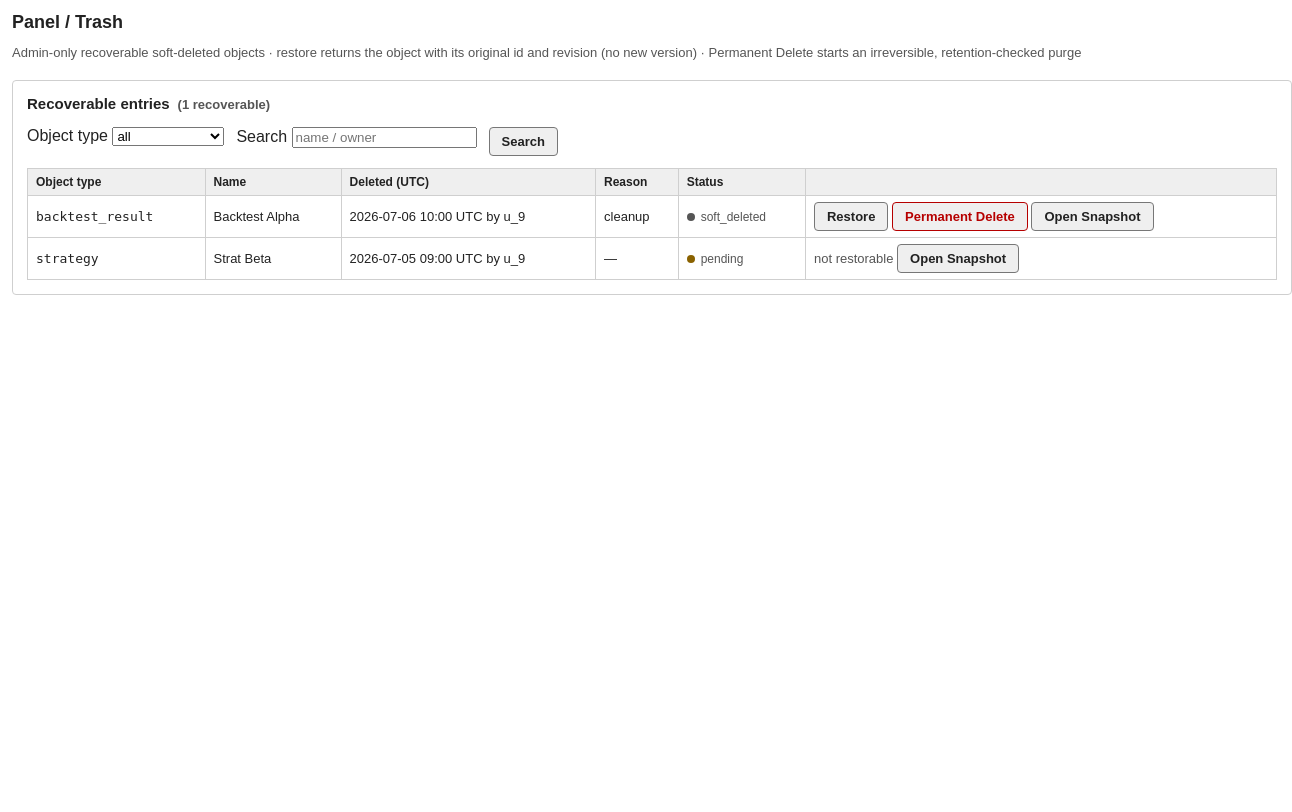
Test: Trash page › gates the purge behind an exact object name and an Admin password
The width and height of the screenshot is (1292, 812).
Check: the text "Backtest Alpha" is shown, box [205,196,341,238]
Click the button "Permanent Delete": click(960, 216) [892,202,1028,231]
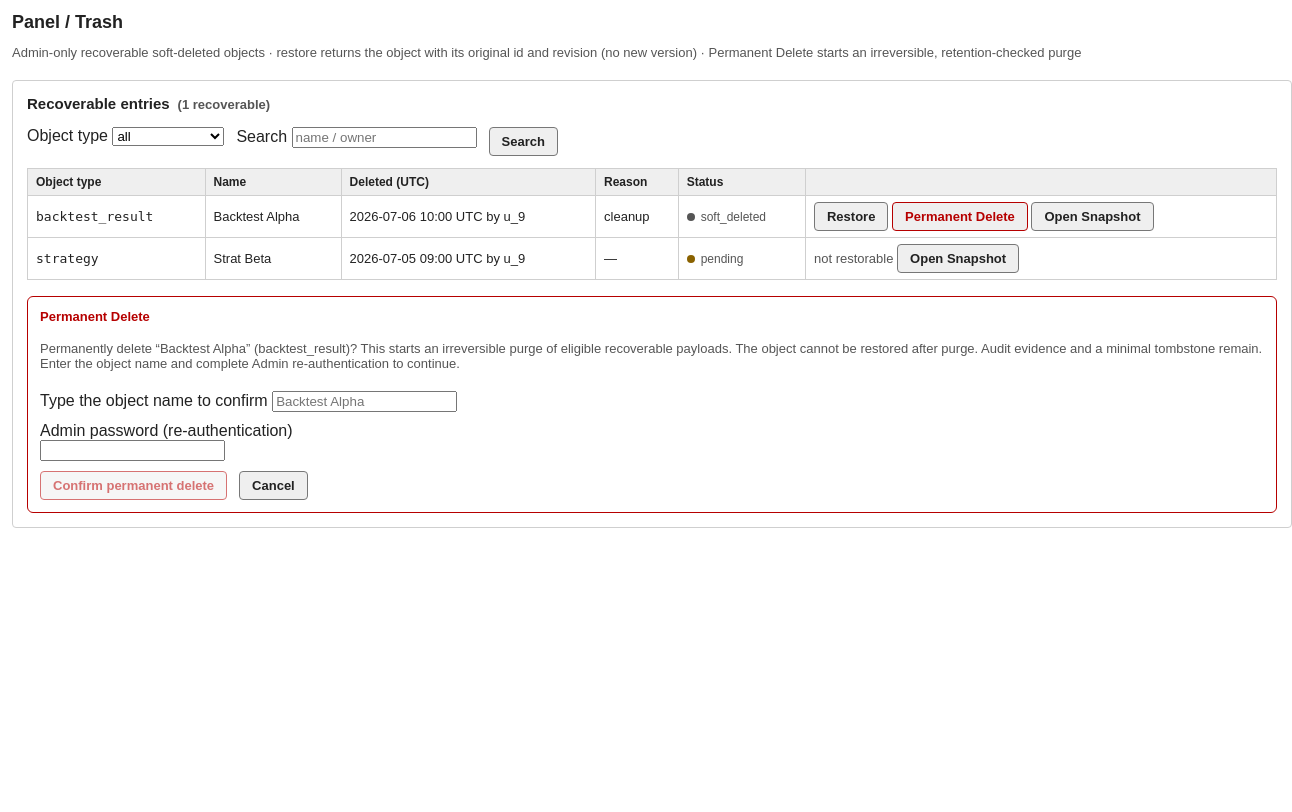
Check: the text "This starts an irreversible purge of eligible recoverable payloads" is shown, box [40,341,1262,371]
Check: the button "Confirm permanent delete" is disabled, box [40,471,227,500]
In the field labelled "Type the object name to confirm": (365, 402) [272,391,457,412], type "Wrong Name"
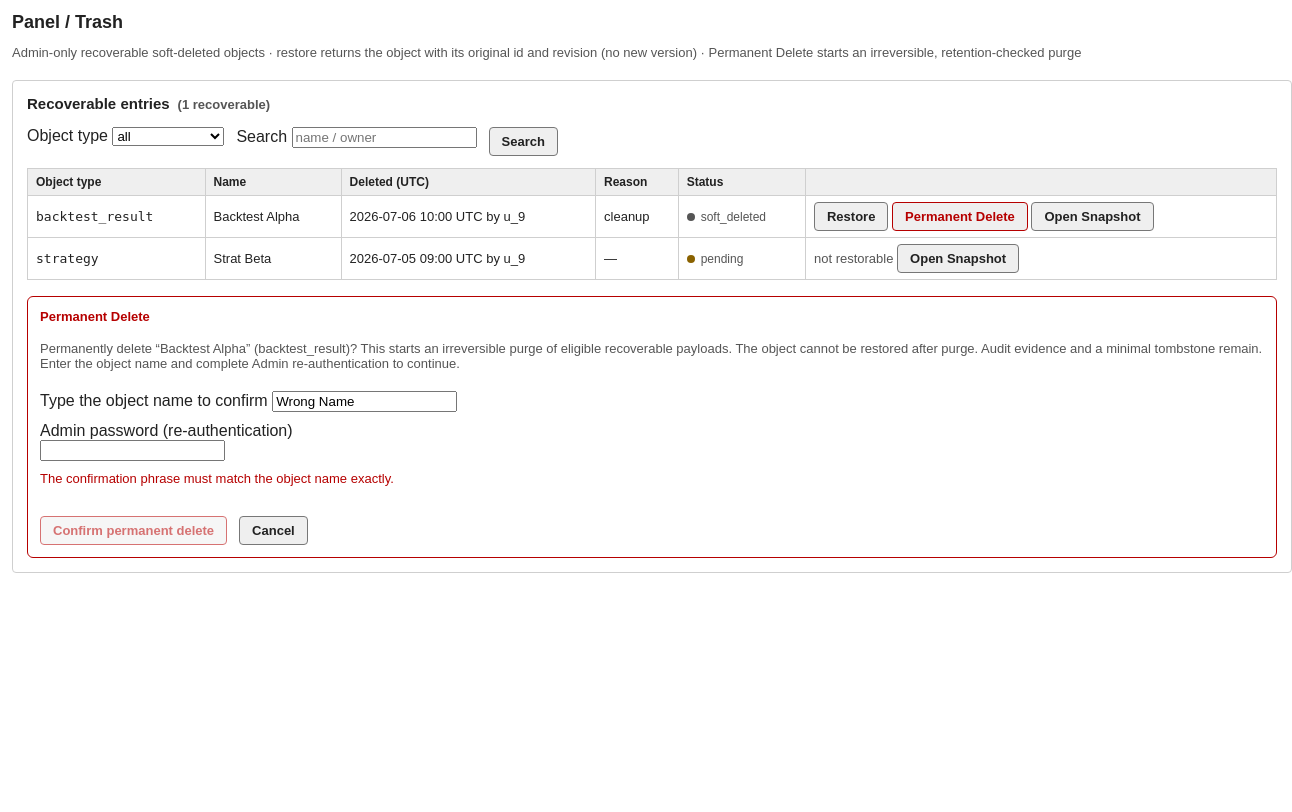
In the password field labelled "Admin password (re-authentication)": (132, 451) [40,440,225,461], type "correct-horse-battery"
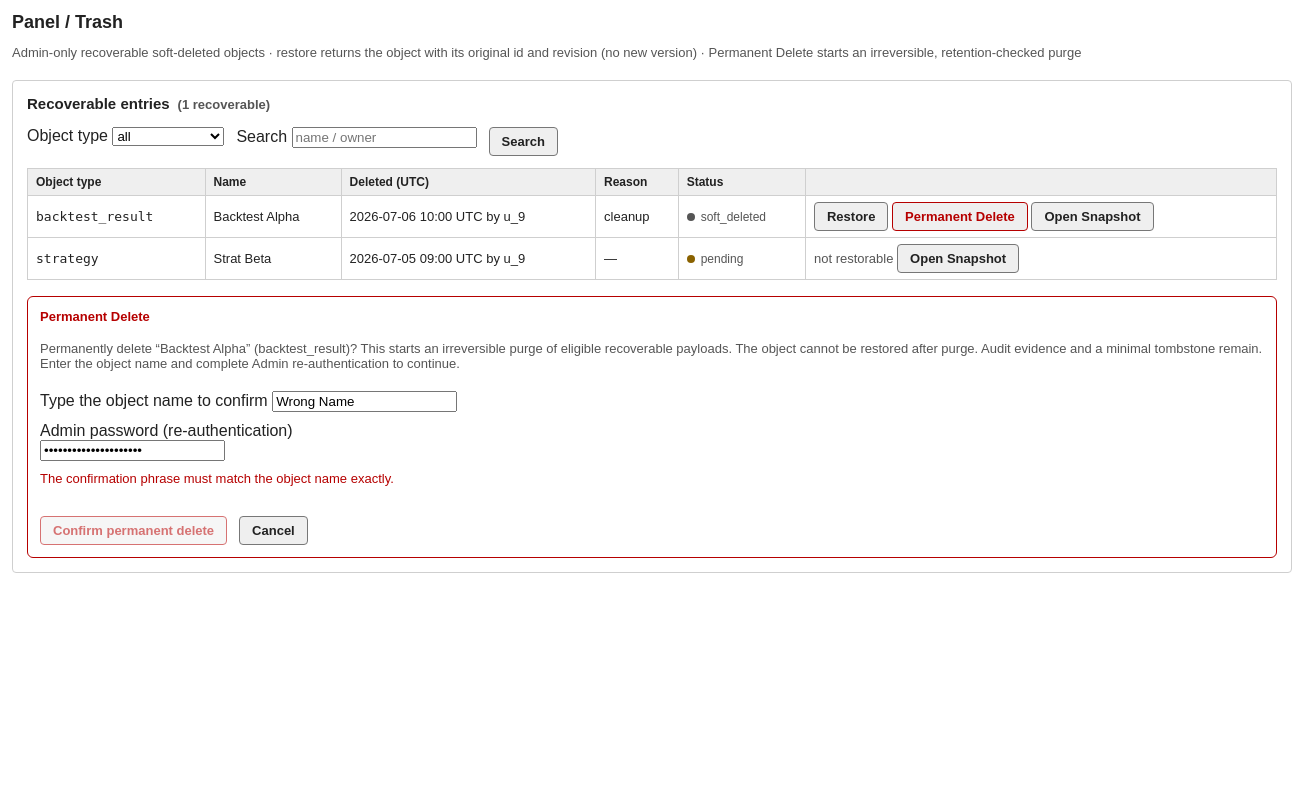
Check: the text "The confirmation phrase must match the object name exactly." is shown, box [40,471,394,486]
Check: the button "Confirm permanent delete" is disabled, box [40,516,227,545]
// The exact object name unlocks Confirm.
Replace the text in the field labelled "Type the object name to confirm" with "Backtest Alpha": (365, 402) [272,391,457,412]
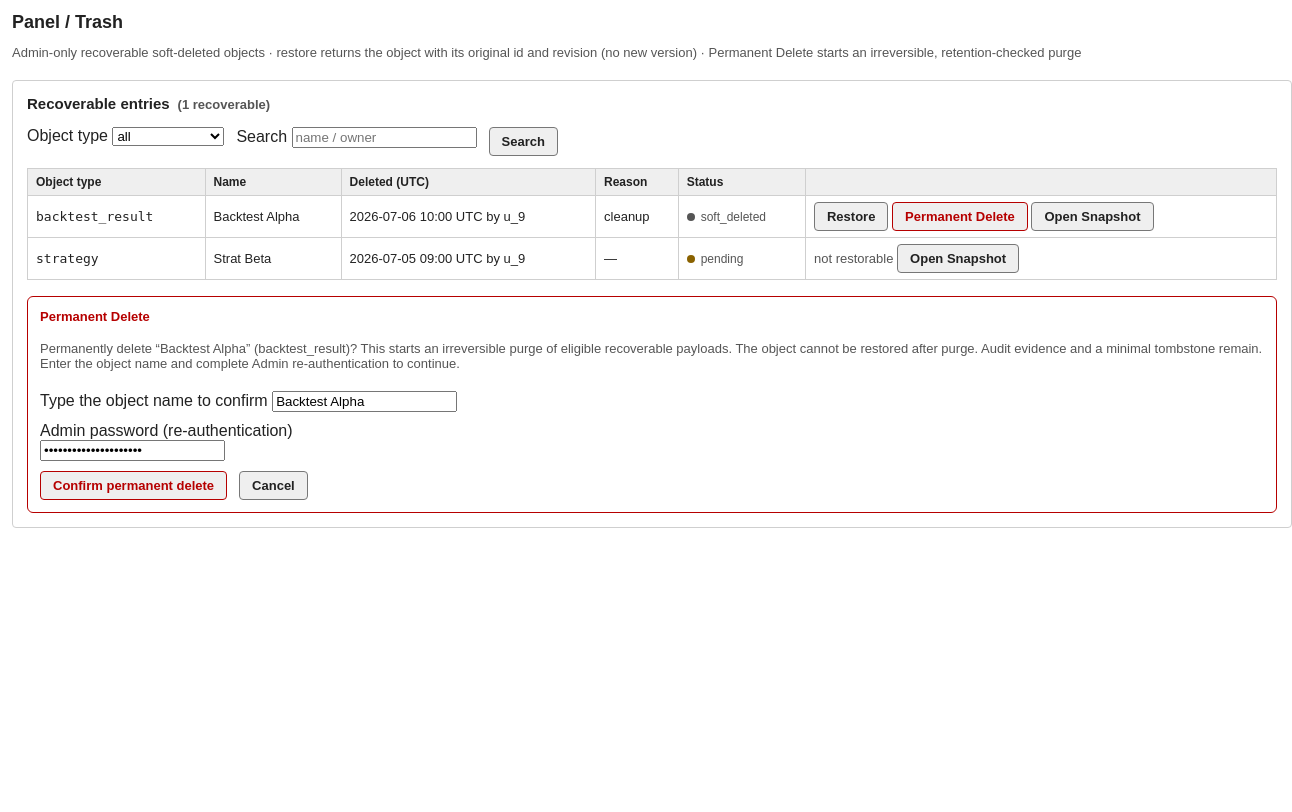
Check: the button "Confirm permanent delete" is enabled, box [40,471,227,500]
